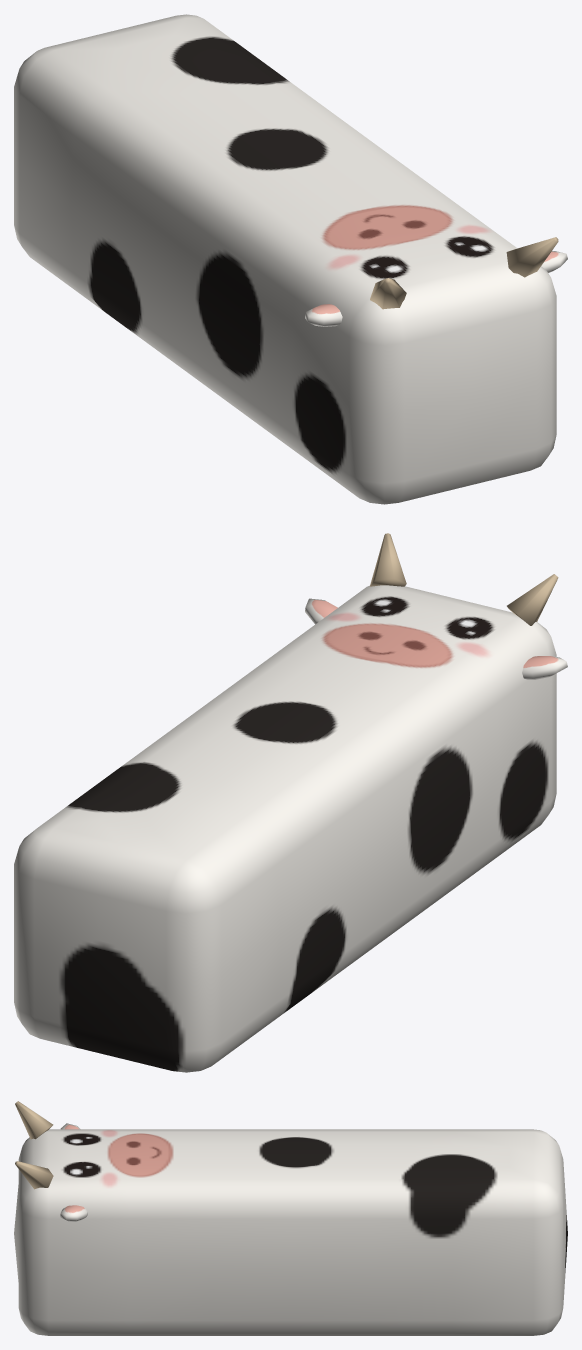
The model's file is Cow_3x1.fbx.
3 renders of one model, top to bottom at view 1: azimuth 30°, elevation 25°; view 2: azimuth 150°, elevation 25°; view 3: azimuth 270°, elevation 25°, orthographic. The views are drawn at different scales.
Parts seen in each view (by area): view 1: Cow_3x1; view 2: Cow_3x1; view 3: Cow_3x1.
Part boxes in pixels (x1,y1,x2,y2): Cow_3x1: (14, 14, 567, 504); Cow_3x1: (14, 533, 567, 1072); Cow_3x1: (14, 1101, 567, 1335).
Size of the model in its own units: 1.18 by 1.02 by 2.97.
1 material, 1 textured.
